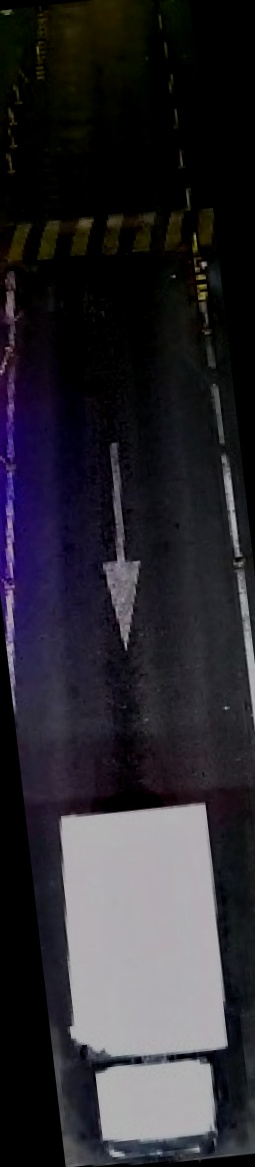truck: (51, 796, 242, 1164)
